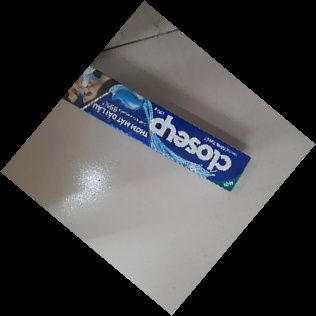CloseUp Tuyet: (53, 57, 252, 192)
